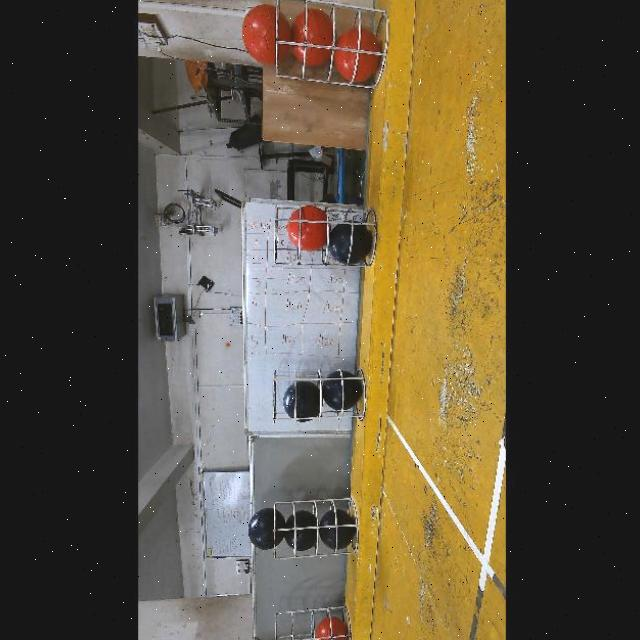P: (328, 220, 371, 266), (247, 507, 285, 551), (321, 370, 361, 410), (282, 381, 320, 423), (319, 508, 356, 551), (283, 510, 317, 552)
R: (241, 4, 292, 65), (333, 27, 380, 82), (291, 9, 333, 66), (285, 205, 329, 252), (314, 617, 348, 640)
S: (272, 10, 392, 82), (266, 364, 378, 426), (272, 206, 378, 266), (266, 496, 356, 560), (274, 604, 352, 640)
